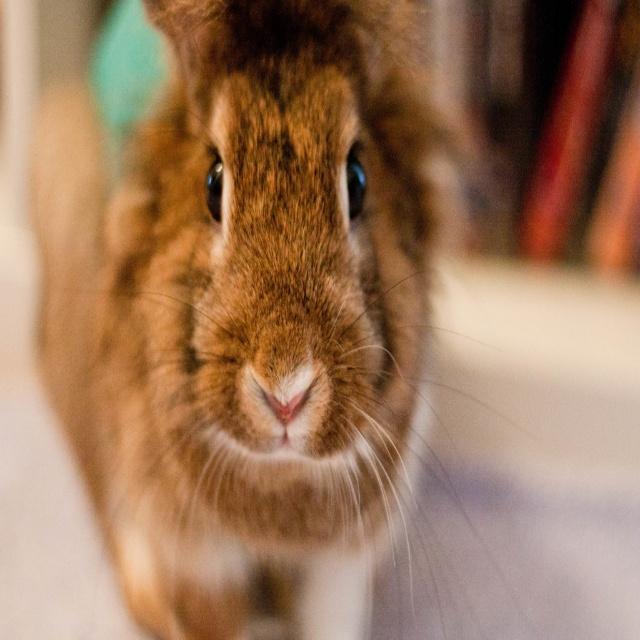Rabbit: (34, 0, 534, 639)
